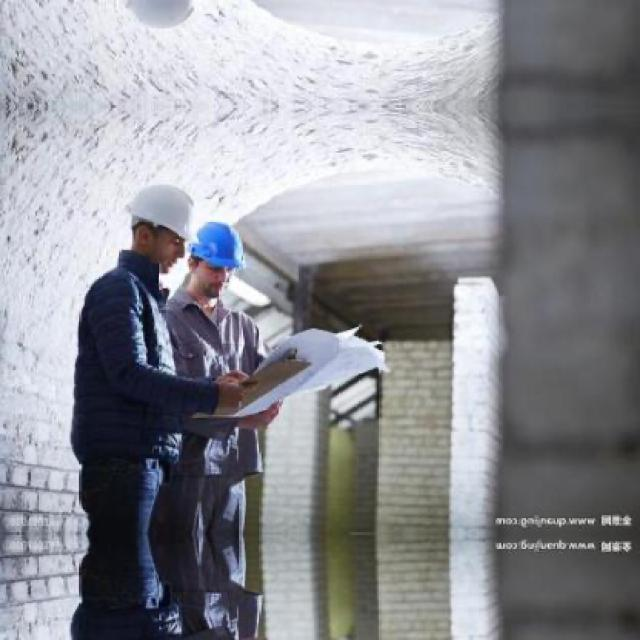helmet: (117, 176, 197, 268), (183, 217, 245, 301), (115, 0, 197, 39)
